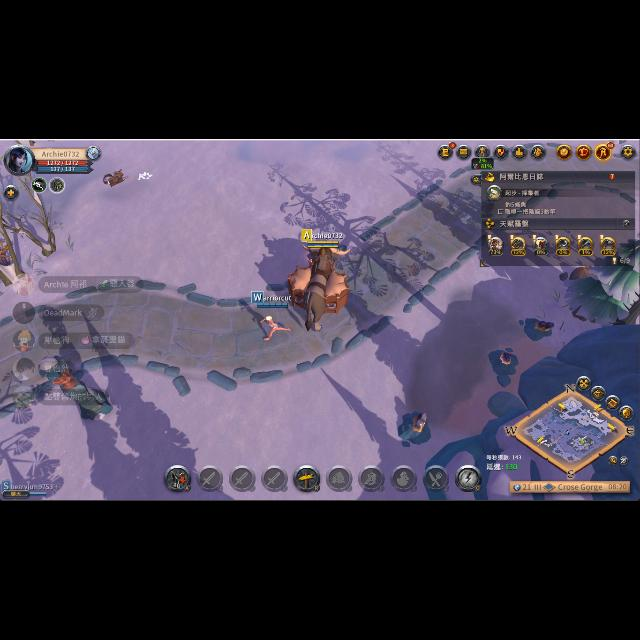mine_ii: (394, 416, 434, 444), (490, 348, 518, 374), (528, 316, 554, 342)
